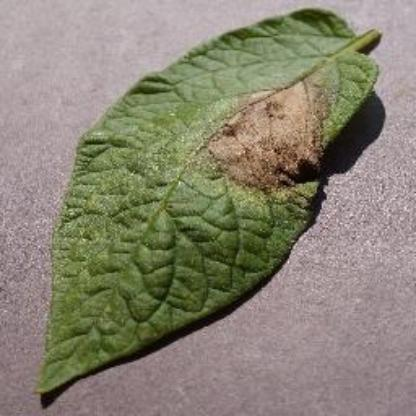Late-Blight: (57, 13, 400, 397)
